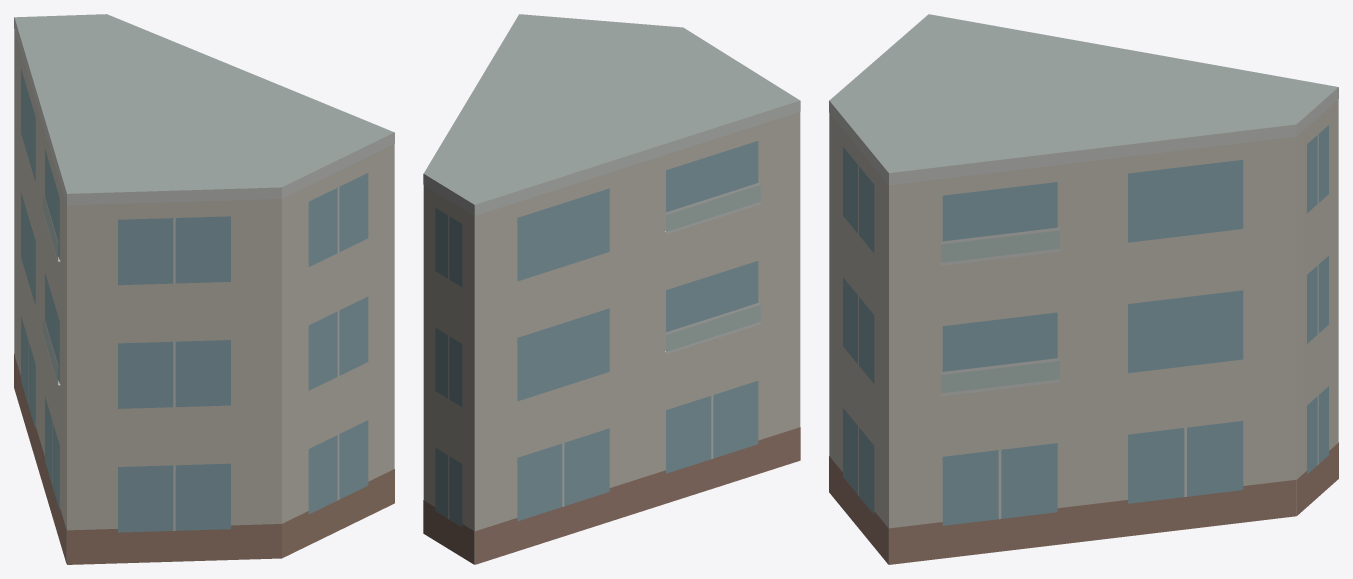
The model's file is survey-upis-32972573.glb.
3 views of the same model, side by side, from view 1: azimuth 30°, elevation 25°; view 2: azimuth 150°, elevation 25°; view 3: azimuth 270°, elevation 25° (orthographic). The views are drawn at different scales.
Parts seen in each view (by area): view 1: survey-upis-32972573.tmp; view 2: survey-upis-32972573.tmp; view 3: survey-upis-32972573.tmp.
Boxes of the visible parts, box(x1,y1,x2,y2) form: survey-upis-32972573.tmp: box(14, 14, 394, 564); survey-upis-32972573.tmp: box(423, 14, 800, 564); survey-upis-32972573.tmp: box(829, 14, 1338, 564).
Bounding box in the file's own units: 6.93 × 7.95 × 9.38.
